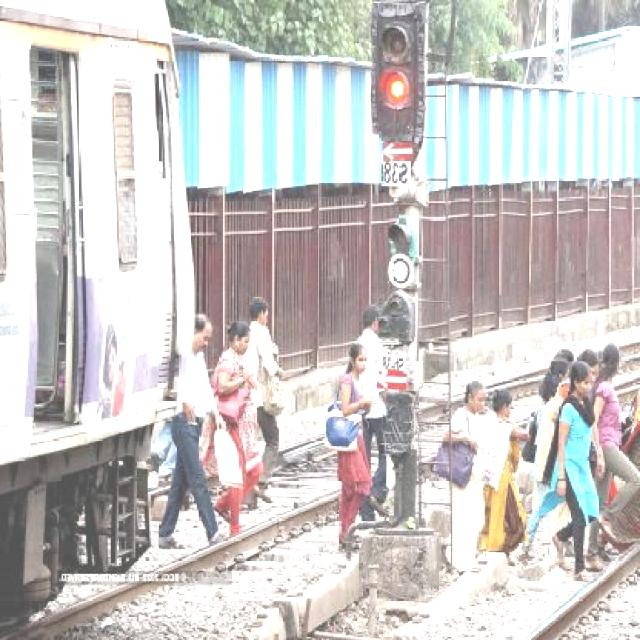Person: (206, 316, 262, 538), (551, 358, 600, 580), (326, 338, 378, 547), (444, 376, 492, 574)
